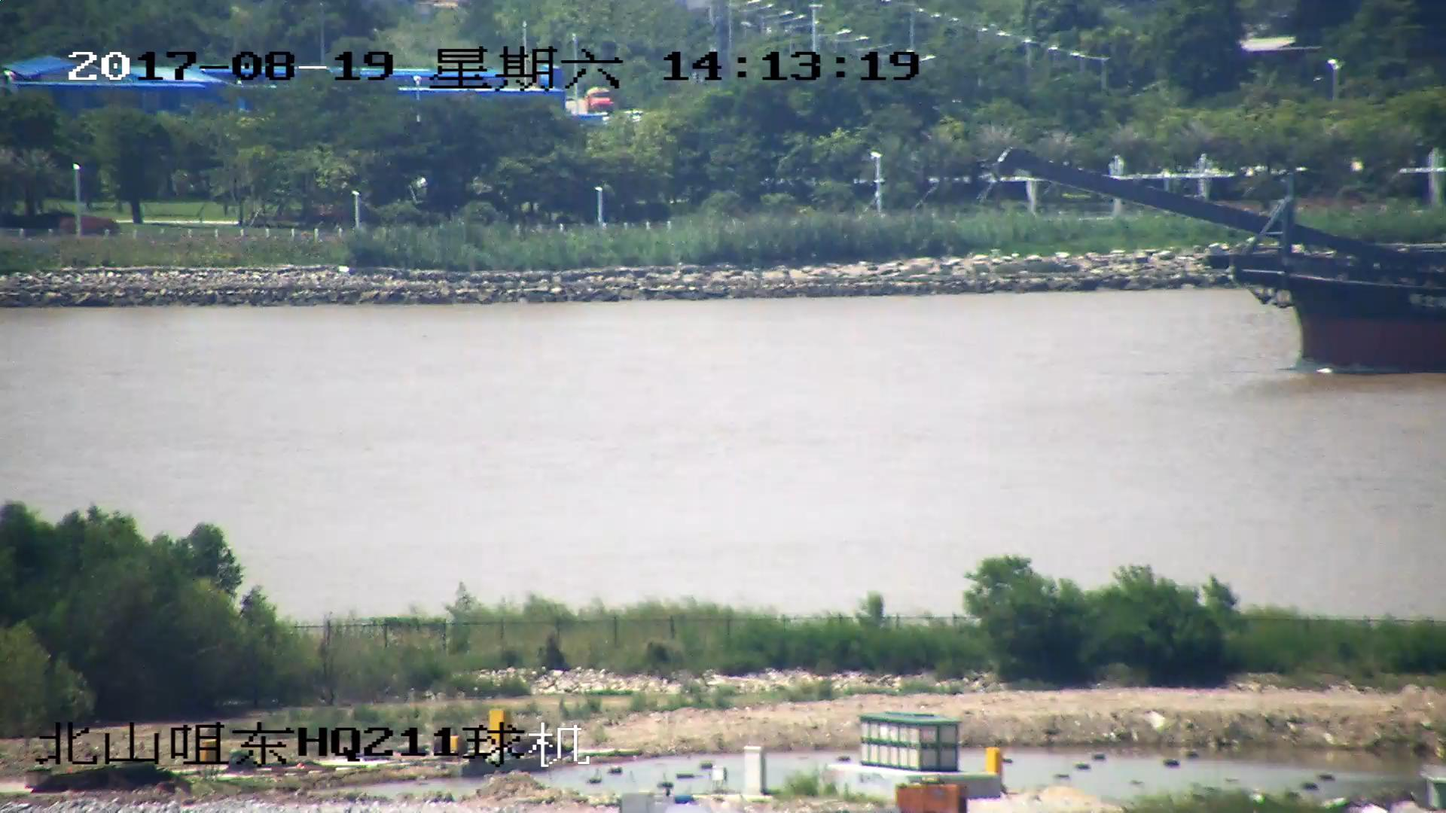bulk cargo carrier: (1001, 148, 1445, 373)
